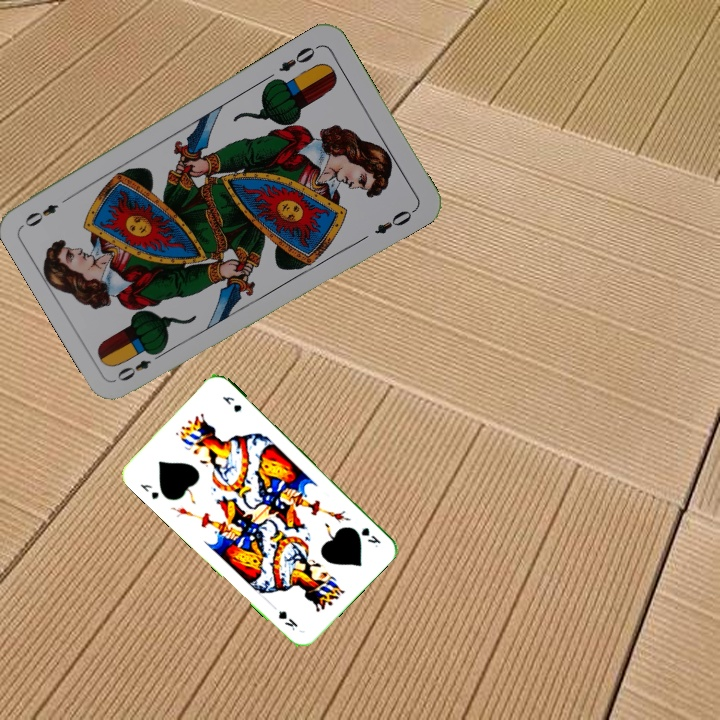EO: (113, 346, 167, 384), (274, 41, 322, 75)
GK: (357, 523, 384, 550), (136, 480, 161, 502)
